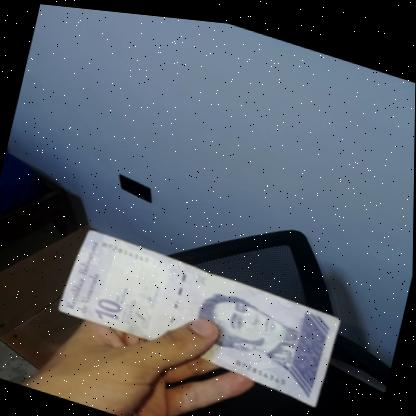ten-front-vef: (53, 221, 344, 402)
